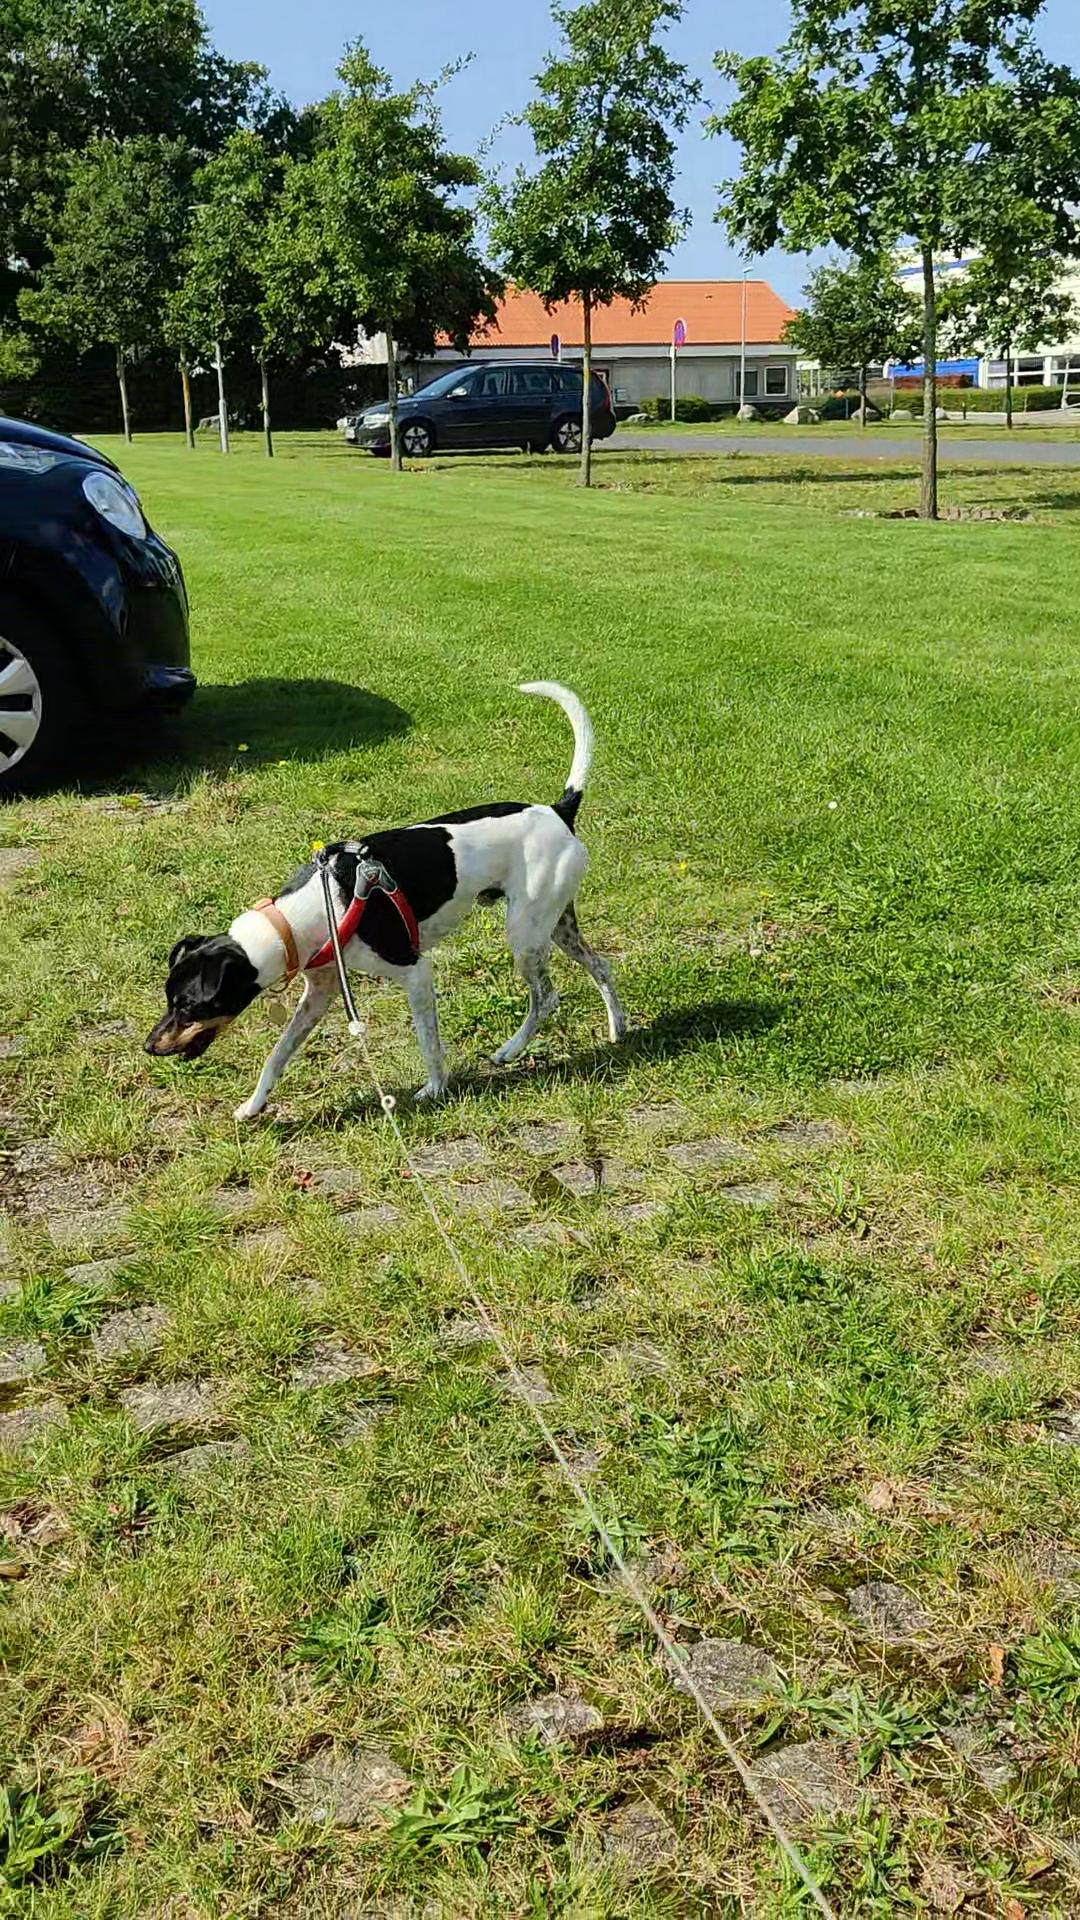Dog: (137, 675, 630, 1120)
